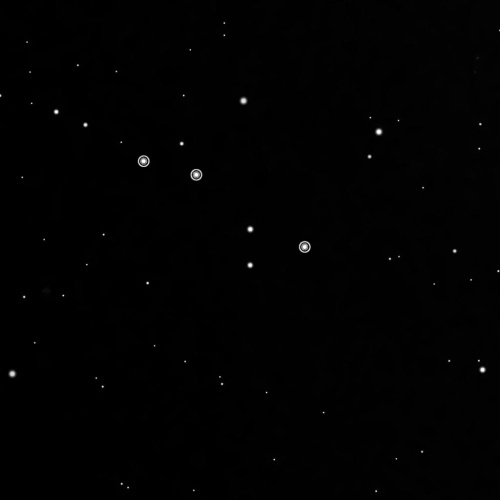vulpecula: (132, 150, 315, 256)
